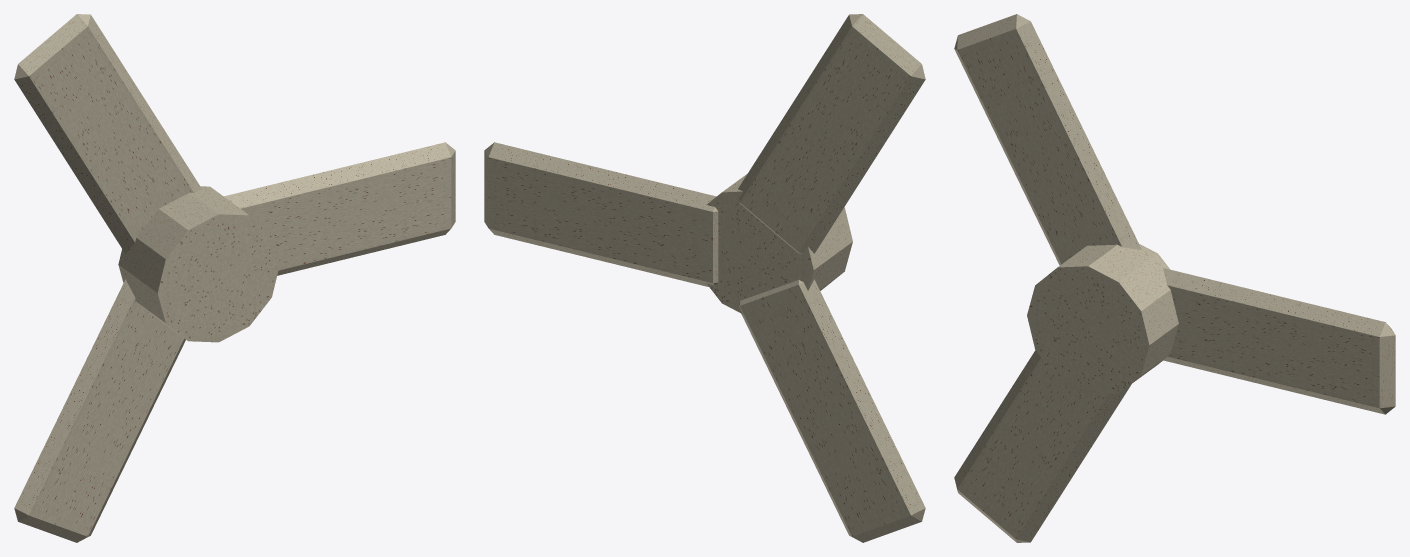
Rendered from FanRotor.fbx.
3 renders of one model, left to right at view 1: azimuth 30°, elevation 25°; view 2: azimuth 150°, elevation 25°; view 3: azimuth 330°, elevation 25°, orthographic.
Visible parts, largest first — view 1: FanRotor; view 2: FanRotor; view 3: FanRotor.
Part boxes in pixels (x1,y1,x2,y2): FanRotor: [14, 14, 455, 542]; FanRotor: [484, 14, 925, 542]; FanRotor: [954, 14, 1395, 542].
Bounding box in the file's own units: 32.44 × 37.14 × 5.25.
Materials: 1 (1 with a texture image).
